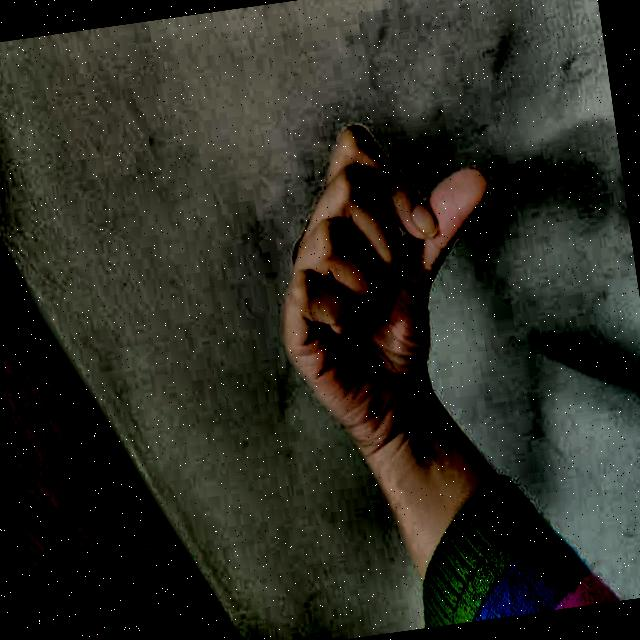Ay: (219, 78, 552, 481)
